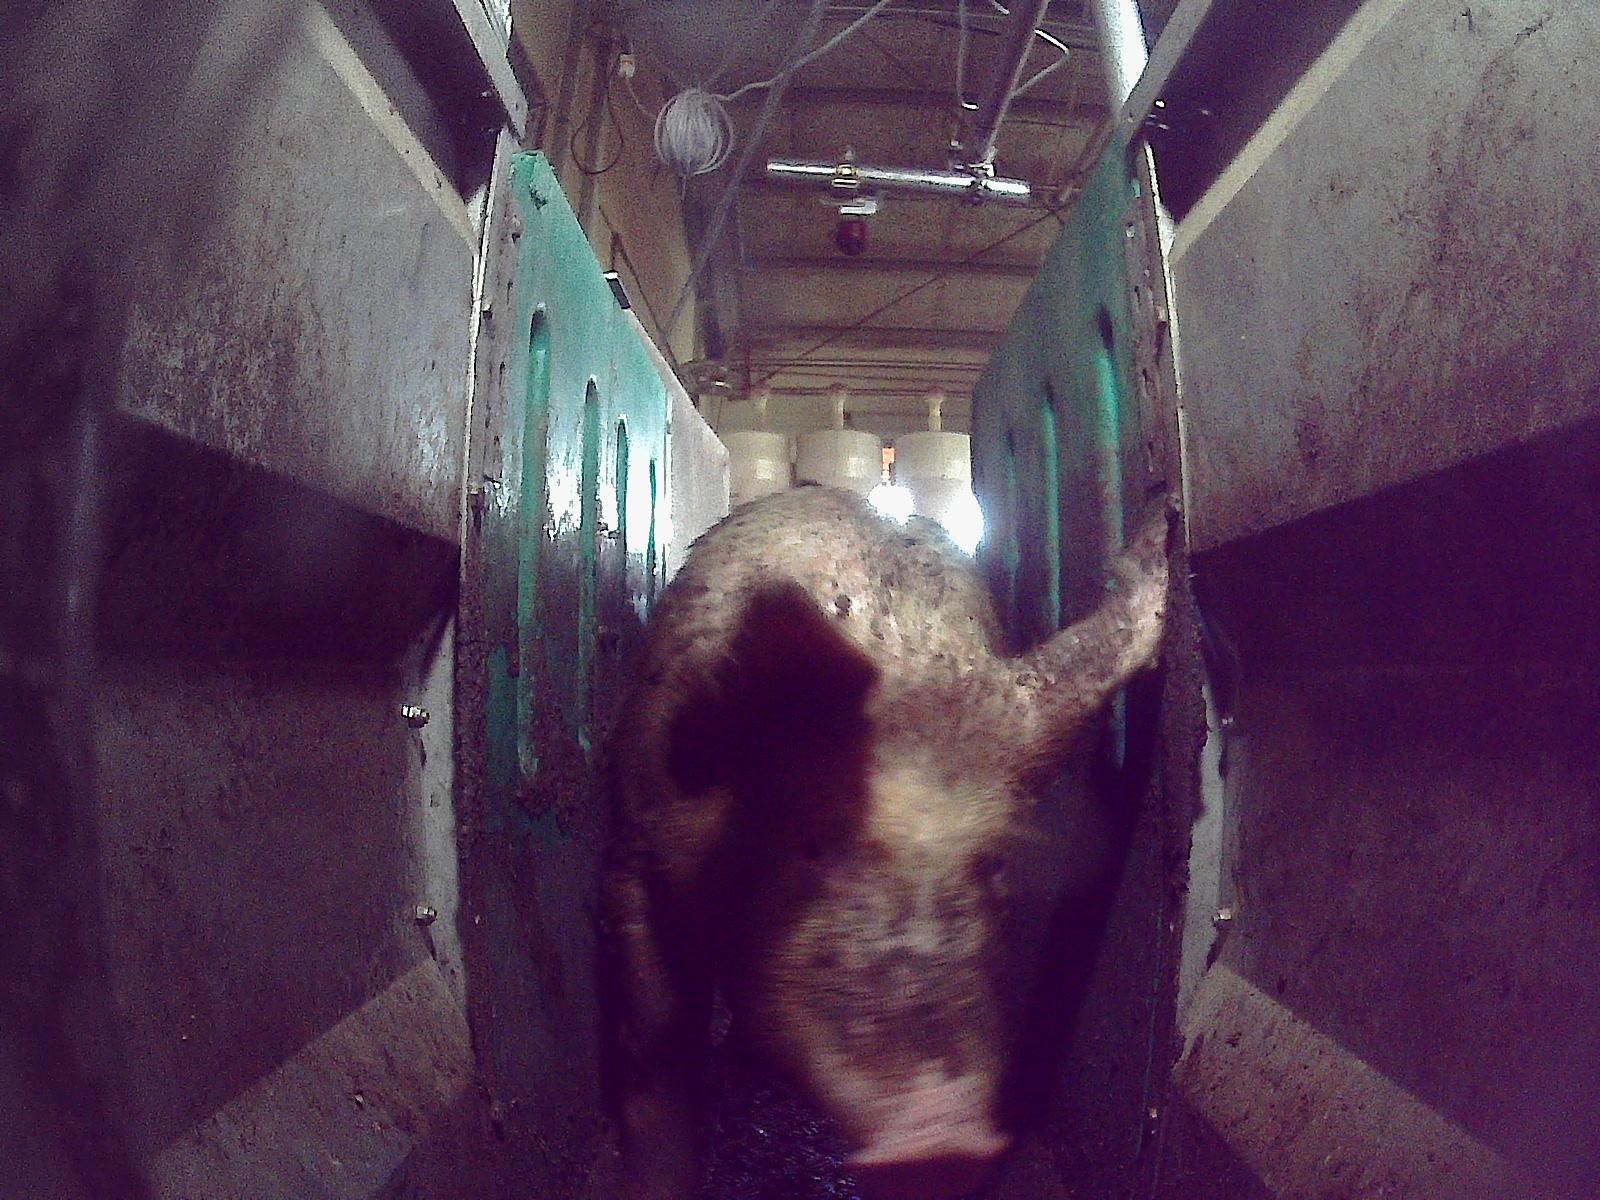Face: (753, 699, 1029, 1192)
